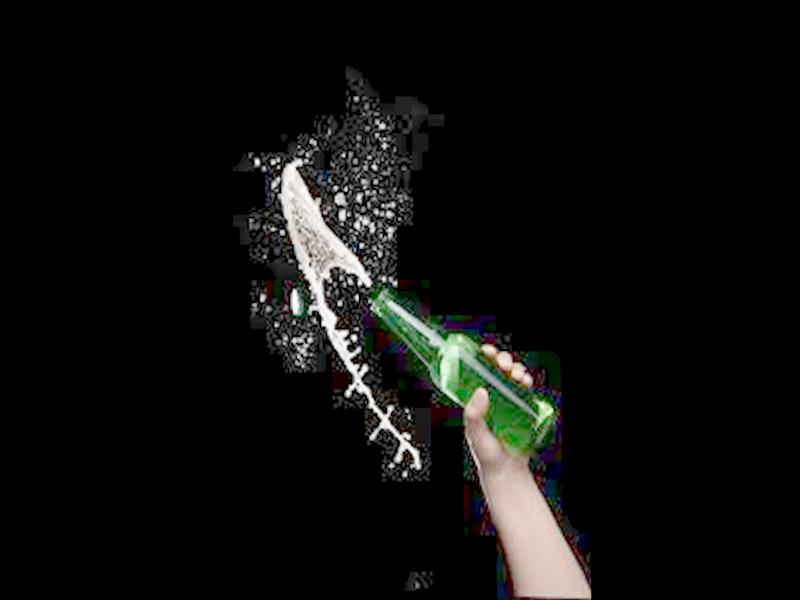Beer: (372, 289, 557, 457)
